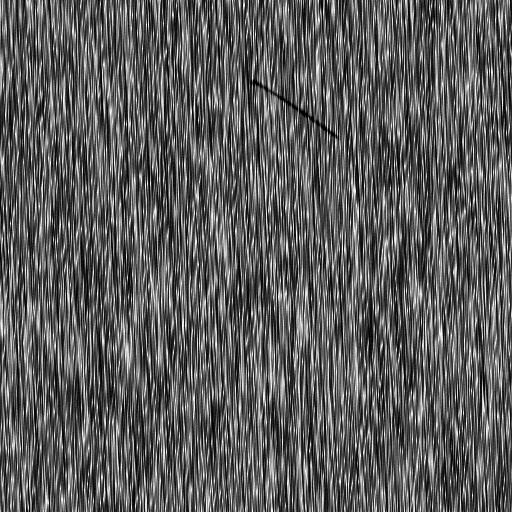scratch: (245, 74, 343, 145)
